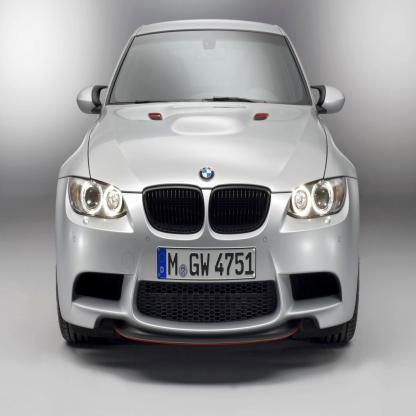Vehicle: (54, 19, 360, 356)
